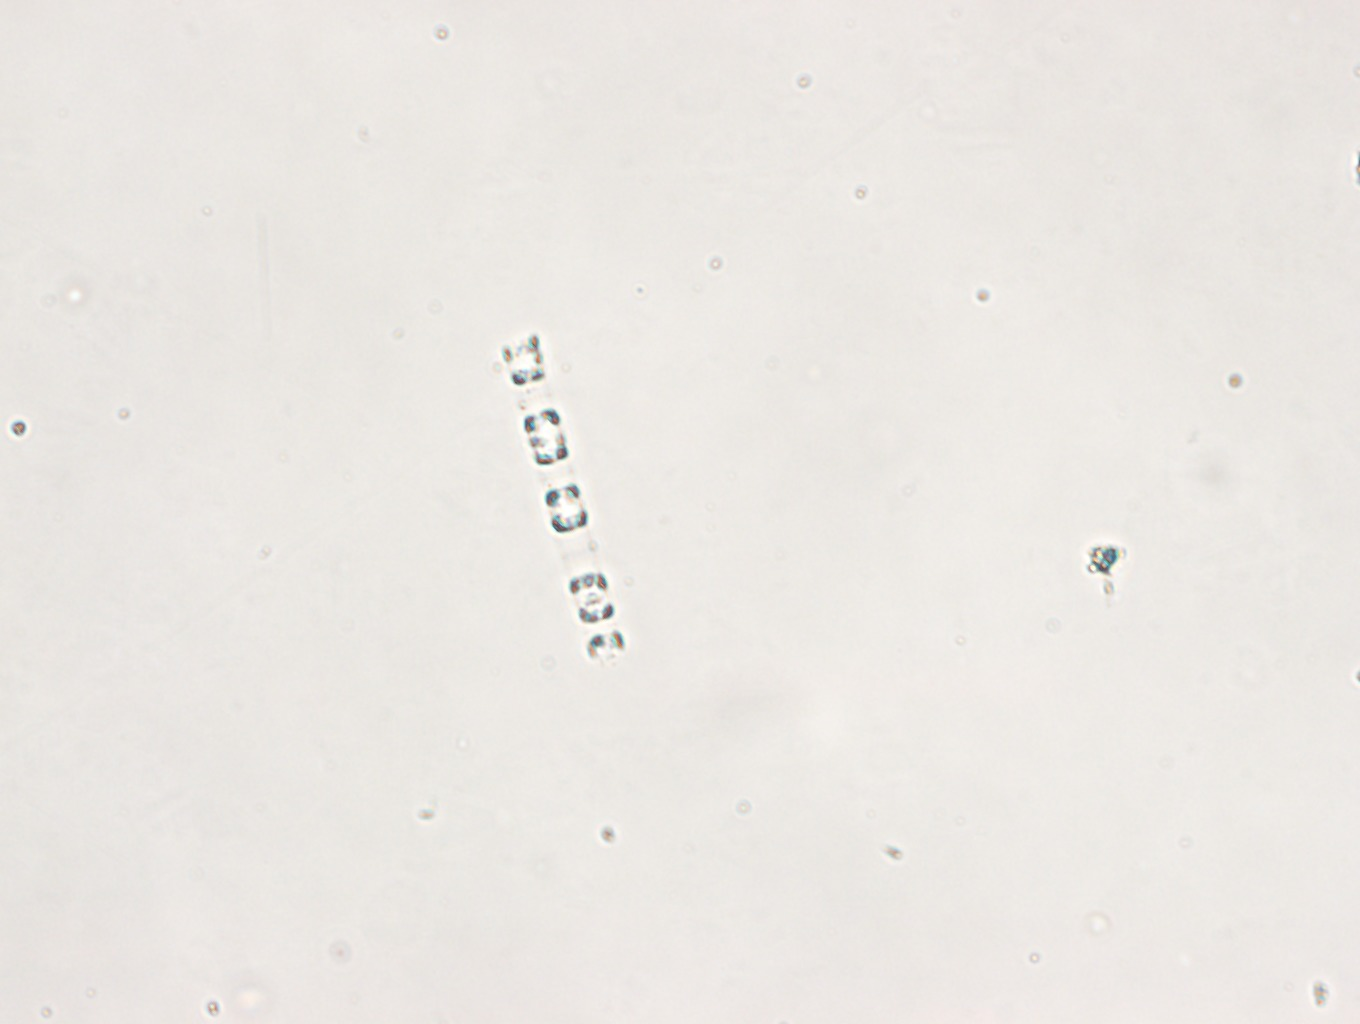skeletonema: (500, 326, 626, 667)
